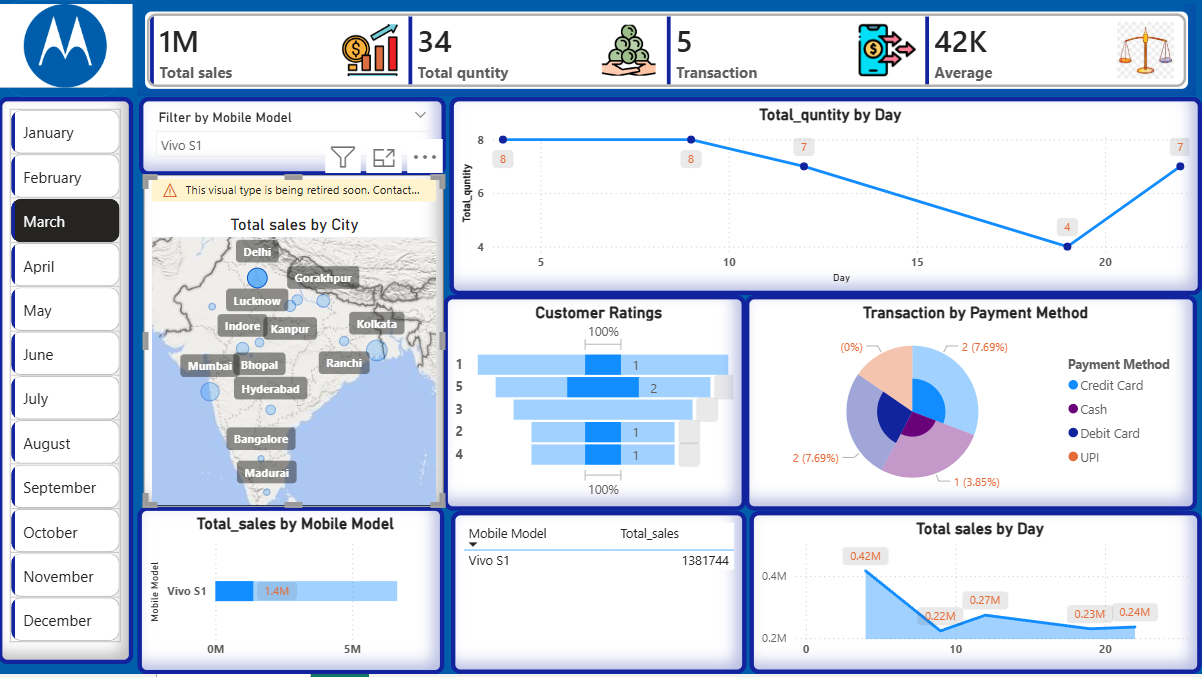

What the dashboard file says about the page in this screenshot:
{"tool":"powerbi","page":{"name":"mobile sale","canvas":[1280,720],"ordinal":0},"visuals":[{"type":"shape","box":[11.5,4.9,119.7,103.3],"z":0},{"type":"image","box":[3.3,9.8,142.6,88.5],"z":1000},{"type":"advancedSlicerVisual","fields":{"Values":["sales.Dates.Variation.Date Hierarchy.Month"]},"box":[3.2,108.2,143.2,601.3],"z":2000},{"type":"cardVisual","fields":{"Data":["sales.Total_sales","sales.Total_quntity","sales.Transaction","sales.Average"]},"box":[150.8,10.2,1122,98.3],"z":3000},{"type":"map","fields":{"Size":["sales.Total_sales"],"Category":["sales.City"]},"box":[157.6,191.5,318.6,350.8],"z":4000},{"type":"lineChart","fields":{"Category":["sales.Dates.Variation.Date Hierarchy.Month","sales.Dates.Variation.Date Hierarchy.Day"],"Y":["sales.Total_quntity"]},"box":[481.4,108.5,798.3,210.2],"z":5000},{"type":"clusteredBarChart","fields":{"Category":["sales.Mobile Model"],"Y":["sales.Total_sales"]},"box":[150.8,542.4,325.4,178],"z":6000},{"type":"pieChart","fields":{"Category":["sales.Payment Method"],"Y":["sales.Transaction"]},"box":[794.9,318.6,479.7,228.8],"z":7000},{"type":"funnel","title":"Customer Ratings ","fields":{"Category":["sales.Customer Ratings"],"Y":["CountNonNull(sales.Customer Ratings)"]},"box":[476.3,318.6,320.3,228.8],"z":8000},{"type":"areaChart","title":"Total sales by Day ","fields":{"Category":["sales.Dates.Variation.Date Hierarchy.Day"],"Y":["sales.Total_sales"]},"box":[800,547.5,479.7,172.9],"z":9000},{"type":"tableEx","fields":{"Values":["sales.Mobile Model","sales.Total_sales"]},"box":[483.1,547.5,313.6,172.9],"z":10000},{"type":"slicer","fields":{"Values":["sales.Mobile Model"]},"box":[152.5,108.5,325.4,83.1],"z":11000}]}

Visuals, with their boxes in screenshot pixels (x1, y1, x2, y2), scaled from the page's 1280x720 canvas onto the 1202x677 screenshot:
shape: [11,5,123,102]
image: [3,9,137,92]
advancedSlicerVisual - sales.Dates.Variation.Date Hierarchy.Month: [3,102,137,667]
cardVisual - sales.Total_sales x sales.Total_quntity: [142,10,1195,102]
map - sales.Total_sales x sales.City: [148,180,447,510]
lineChart - sales.Dates.Variation.Date Hierarchy.Month x sales.Dates.Variation.Date Hierarchy.Day: [452,102,1201,300]
clusteredBarChart - sales.Mobile Model x sales.Total_sales: [142,510,447,676]
pieChart - sales.Payment Method x sales.Transaction: [746,300,1197,515]
"Customer Ratings " funnel: [447,300,748,515]
"Total sales by Day " areaChart: [751,515,1201,676]
tableEx - sales.Mobile Model x sales.Total_sales: [454,515,748,676]
slicer - sales.Mobile Model: [143,102,449,180]
